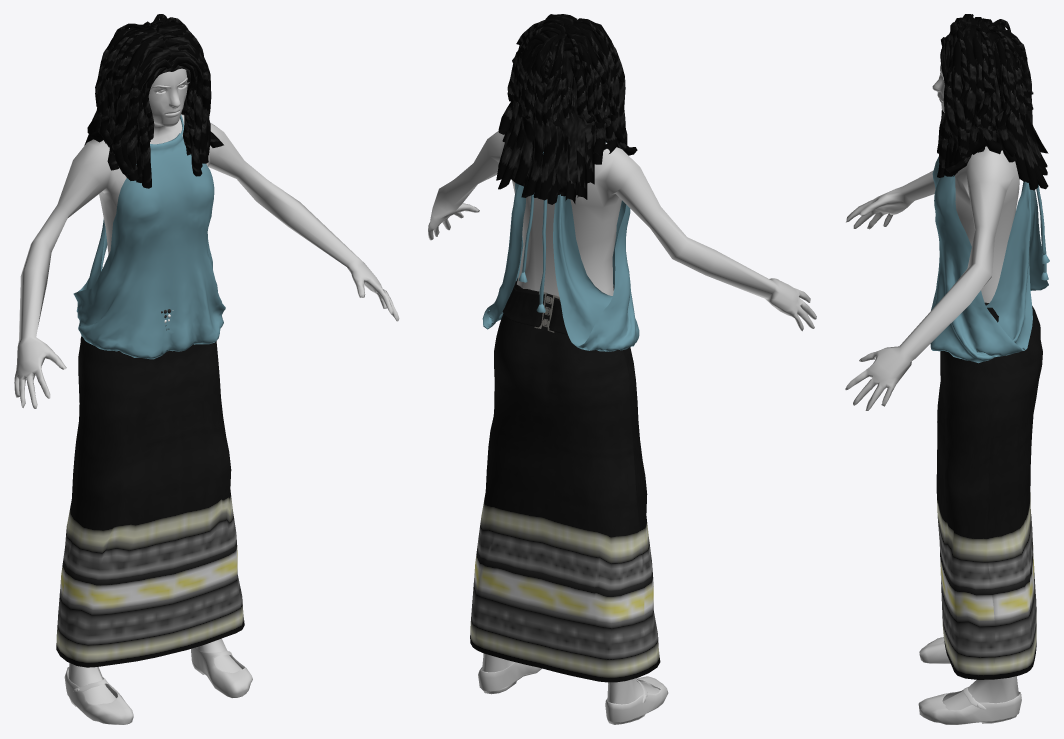
The model's file is chica.fbx.
3 views of the same model, side by side, from view 1: azimuth 30°, elevation 25°; view 2: azimuth 150°, elevation 25°; view 3: azimuth 270°, elevation 25° (orthographic).
Visible parts, largest first — view 1: namfashionskirtMesh, rhodatopMesh, female1605Mesh, curlyMesh, mj_shoesMesh; view 2: namfashionskirtMesh, curlyMesh, female1605Mesh, rhodatopMesh, mj_shoesMesh; view 3: namfashionskirtMesh, female1605Mesh, curlyMesh, rhodatopMesh, mj_shoesMesh.
Part boxes in pixels (box(x1,y1,x2,y2)): namfashionskirtMesh: box(56, 309, 244, 667); rhodatopMesh: box(73, 115, 225, 359); female1605Mesh: box(14, 68, 399, 704); curlyMesh: box(84, 14, 223, 188); mj_shoesMesh: box(64, 647, 252, 724); namfashionskirtMesh: box(470, 278, 660, 682); curlyMesh: box(496, 14, 637, 204); female1605Mesh: box(428, 131, 816, 704); rhodatopMesh: box(482, 142, 639, 351); mj_shoesMesh: box(478, 662, 668, 724); namfashionskirtMesh: box(936, 302, 1042, 679); female1605Mesh: box(845, 64, 1019, 710); curlyMesh: box(937, 14, 1048, 190); rhodatopMesh: box(930, 156, 1049, 363); mj_shoesMesh: box(918, 637, 1021, 724).
Size of the model in its own units: 12.8 by 21.77 by 6.07.
